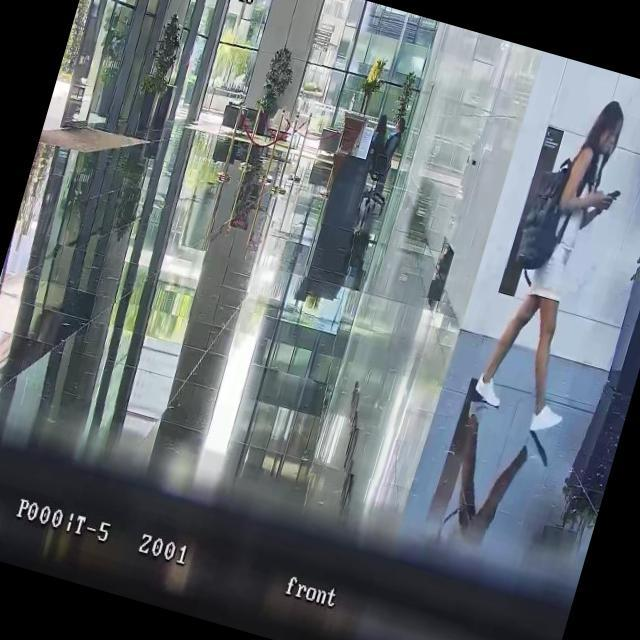person: (466, 85, 640, 440), (379, 115, 406, 167), (366, 111, 392, 162)
